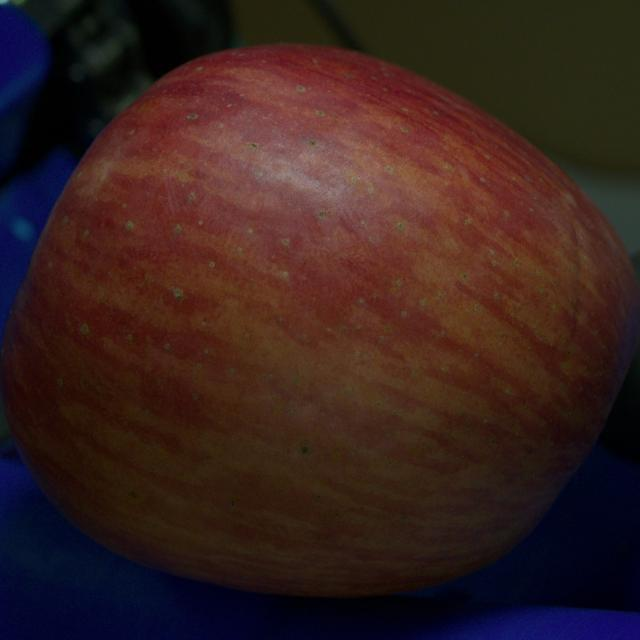apple: (0, 45, 639, 596)
pest: (302, 447, 308, 452)
scratch: (569, 212, 585, 347)
